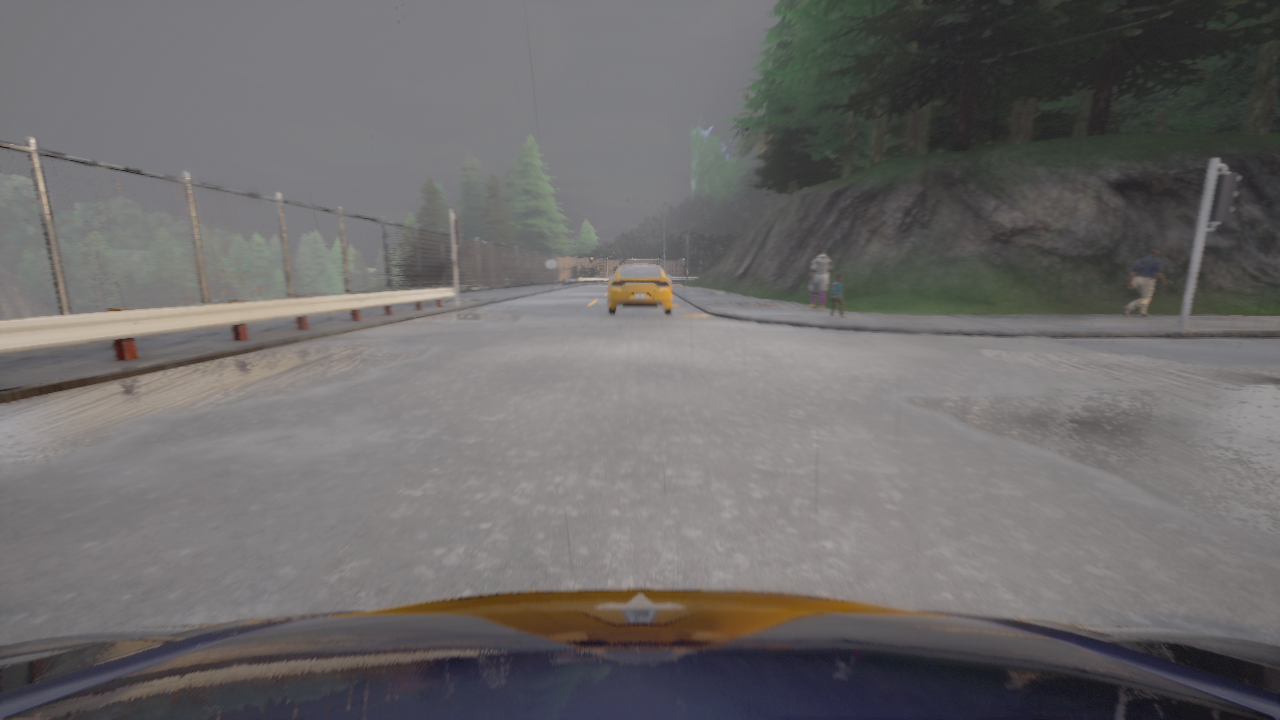cyclist: (0, 588, 1279, 719), (608, 264, 671, 314)
pedestrian: (1122, 246, 1165, 316), (808, 249, 831, 311), (830, 274, 845, 317)
